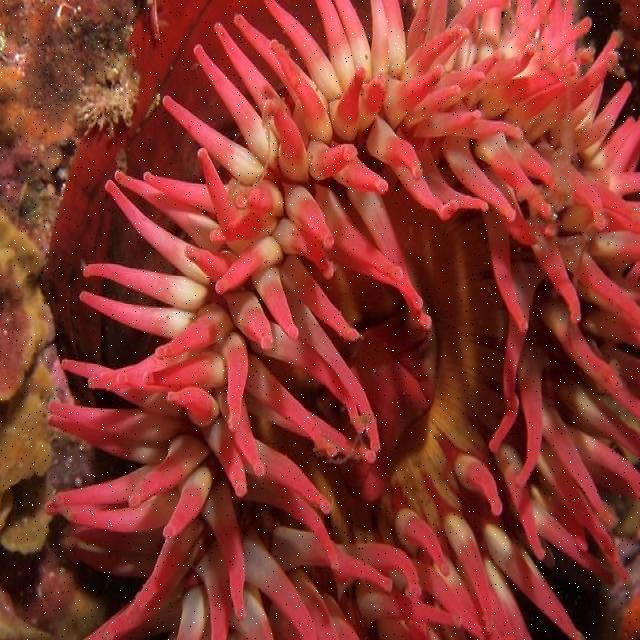reefs: (43, 2, 639, 639)
